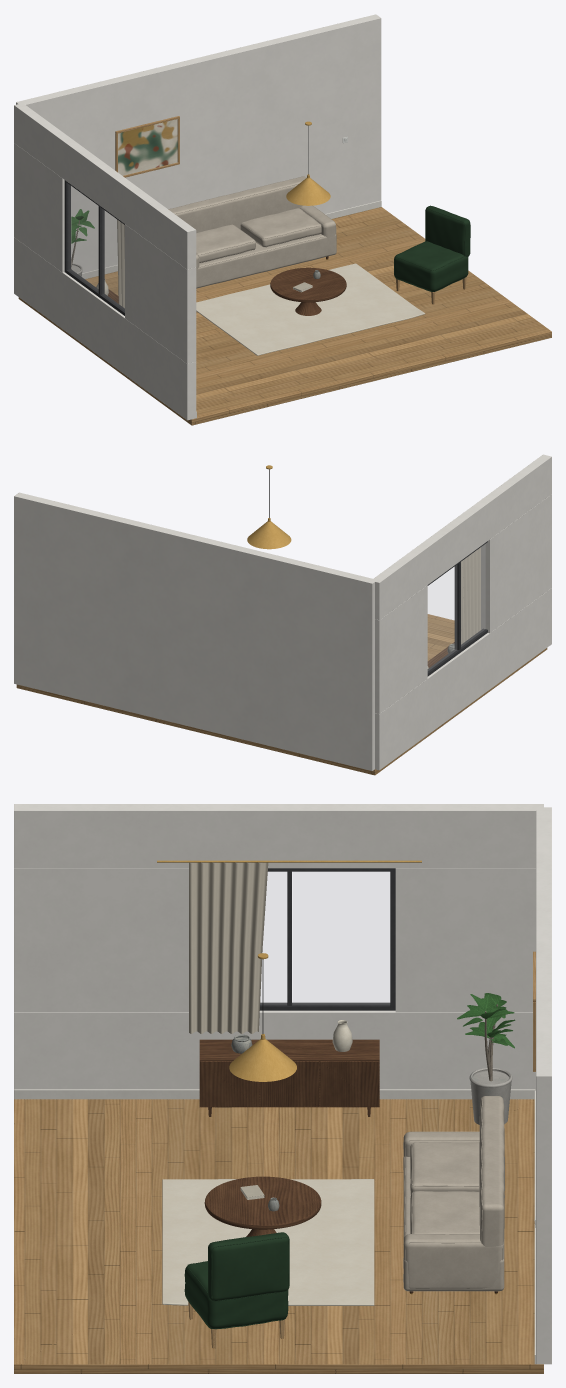
Rendered from room.glb.
3 renders of one model, top to bottom at view 1: azimuth 30°, elevation 25°; view 2: azimuth 150°, elevation 25°; view 3: azimuth 270°, elevation 25°, orthographic. The views are drawn at different scales.
Parts seen in each view (by area): view 1: Wall_1, Floor, Wall_2, Rug, Wall_3, Wall_5, Wall_4, WindowGlass, Sofa_back, Sofa_base, Armchair_seat, Artwork (+10 smaller); view 2: Wall_1, Wall_2, Wall_3, Wall_5, Wall_4, WindowGlass, Floor, Curtain, WindowFrame, Pendant; view 3: Floor, Wall_3, Wall_2, Wall_5, Wall_4, WindowGlass, Rug, Curtain, Wall_1, Sideboard_doors, Sofa_arm_right, Armchair_back (+14 smaller).
Part boxes in pixels (x1,y1,x2,y2): Wall_1: (16,14,381,273); Floor: (18,207,551,425); Wall_2: (14,237,196,420); Rug: (196,263,425,355); Wall_3: (14,104,196,269); Wall_5: (125,224,196,363); Wall_4: (14,143,71,272); WindowGlass: (68,184,124,310); Sofa_back: (168,176,306,232); Sofa_base: (196,234,336,288); Armchair_seat: (394,241,468,291); Artwork: (118,119,177,175); Wall_1: (14,492,376,770); Wall_2: (375,588,551,770); Wall_3: (371,454,551,620); Wall_5: (481,494,551,633); Wall_4: (375,585,427,713); WindowGlass: (428,544,485,670); Floor: (16,614,547,775); Curtain: (461,547,480,644); WindowFrame: (427,541,487,676); Pendant: (247,465,291,549); Floor: (14,1099,543,1373); Wall_3: (14,804,543,868); Wall_2: (14,1010,535,1090); Wall_5: (14,868,188,1012); Wall_4: (395,868,535,1012); WindowGlass: (260,872,389,1004); Rug: (162,1179,374,1305); Curtain: (189,862,268,1033); Wall_1: (536,807,551,1364); Sideboard_doors: (200,1061,378,1106); Sofa_arm_right: (403,1234,504,1288); Armchair_back: (208,1232,289,1301).
Size of the model in its own units: 6.08 by 3.1 by 5.08.
Materials: 23 (23 with a texture image).
